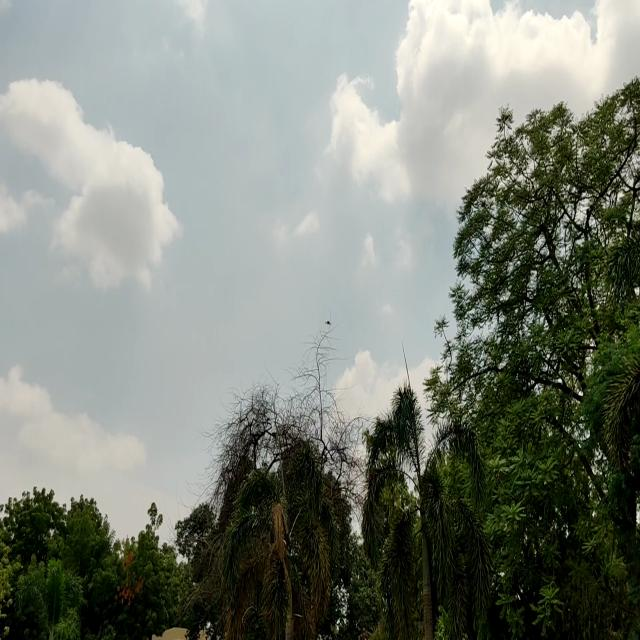drone: (318, 311, 336, 330)
